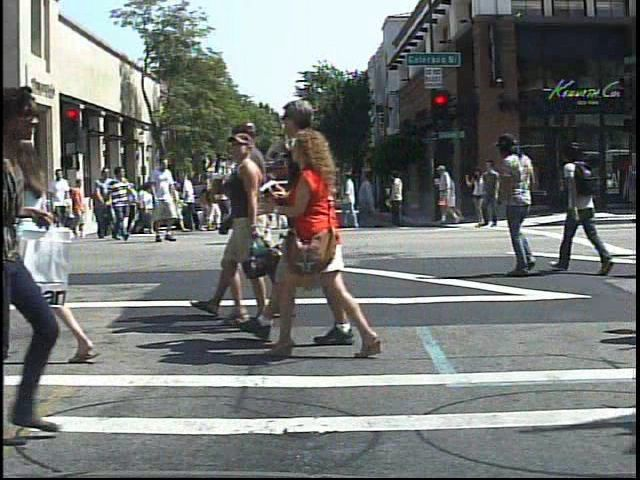person: (253, 91, 377, 345), (274, 118, 384, 357), (4, 119, 106, 371), (555, 131, 620, 280), (495, 126, 551, 282), (146, 158, 183, 245), (105, 161, 135, 242), (46, 166, 75, 245), (90, 164, 116, 242), (436, 161, 461, 225), (23, 183, 46, 243), (90, 183, 110, 221)
